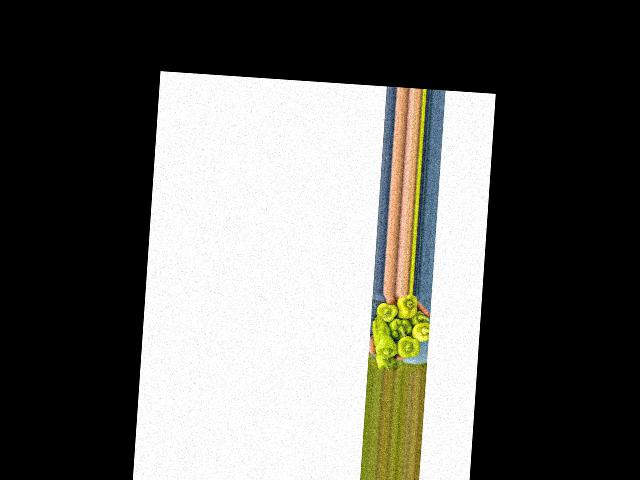bell_pepper: (397, 294, 420, 320)
